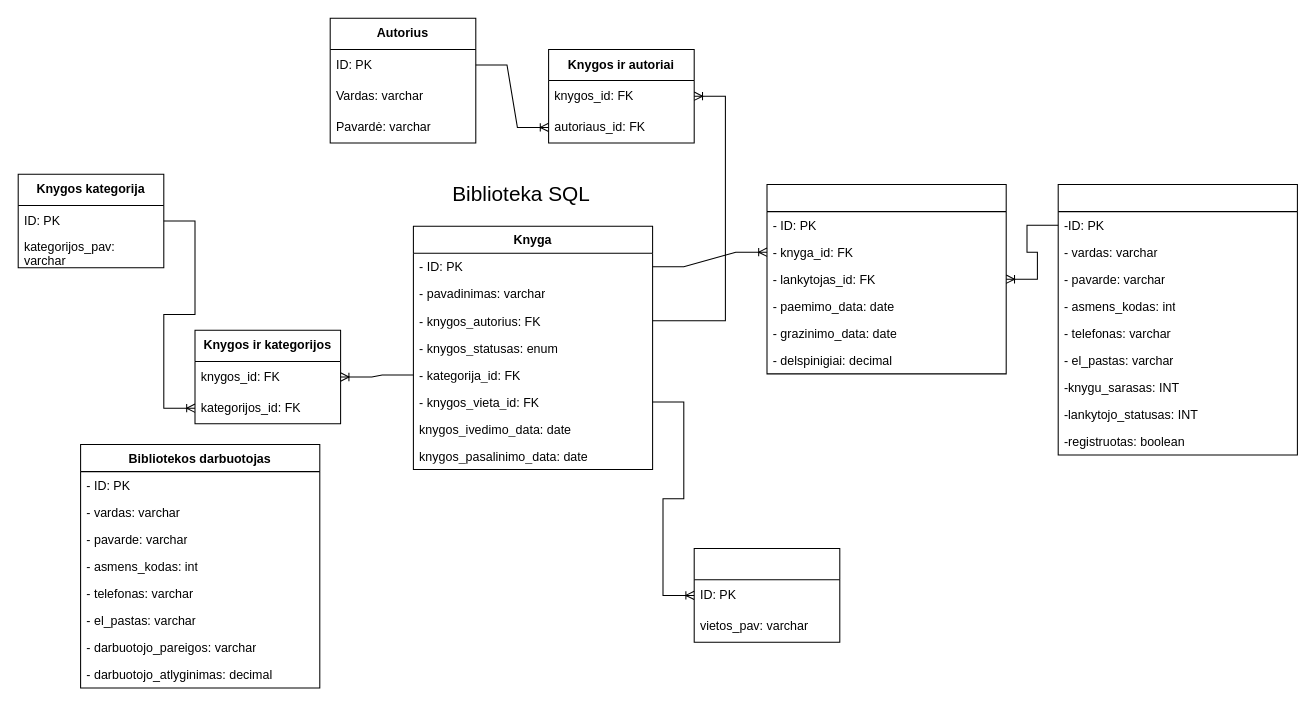
The diagram is 1316 pixels wide and 709 high, and some of its shapes have lost their labels. The box of each missing label's shape, as (x1, y1, x2, y2) in pixels:
Knygos vieta: (693, 548, 840, 642)
Knygų skolinimai: (766, 184, 1006, 374)
Lankytojas: (1057, 184, 1297, 455)
